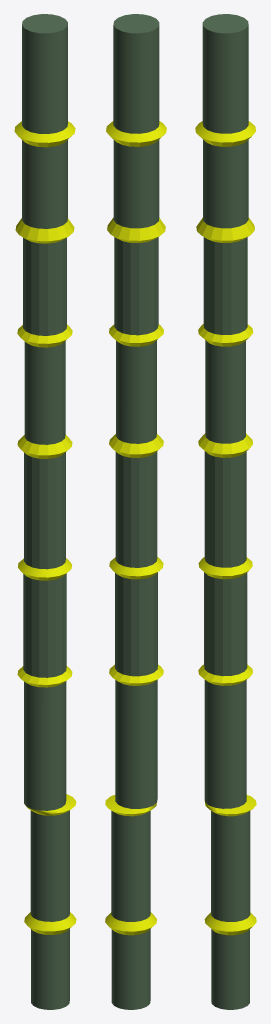
The model's file is Reigerriet.01.fbx.
3 views of the same model, side by side, from view 1: azimuth 30°, elevation 25°; view 2: azimuth 210°, elevation 25°; view 3: azimuth 330°, elevation 25° (orthographic).
Visible parts, largest first — view 1: pCylinder1; view 2: pCylinder1; view 3: pCylinder1.
Part boxes in pixels (x1,y1,x2,y2): pCylinder1: (14,14,76,1009); pCylinder1: (105,14,166,1009); pCylinder1: (195,14,256,1009).
Bounding box in the file's own units: 1.2 × 20.51 × 1.17.
